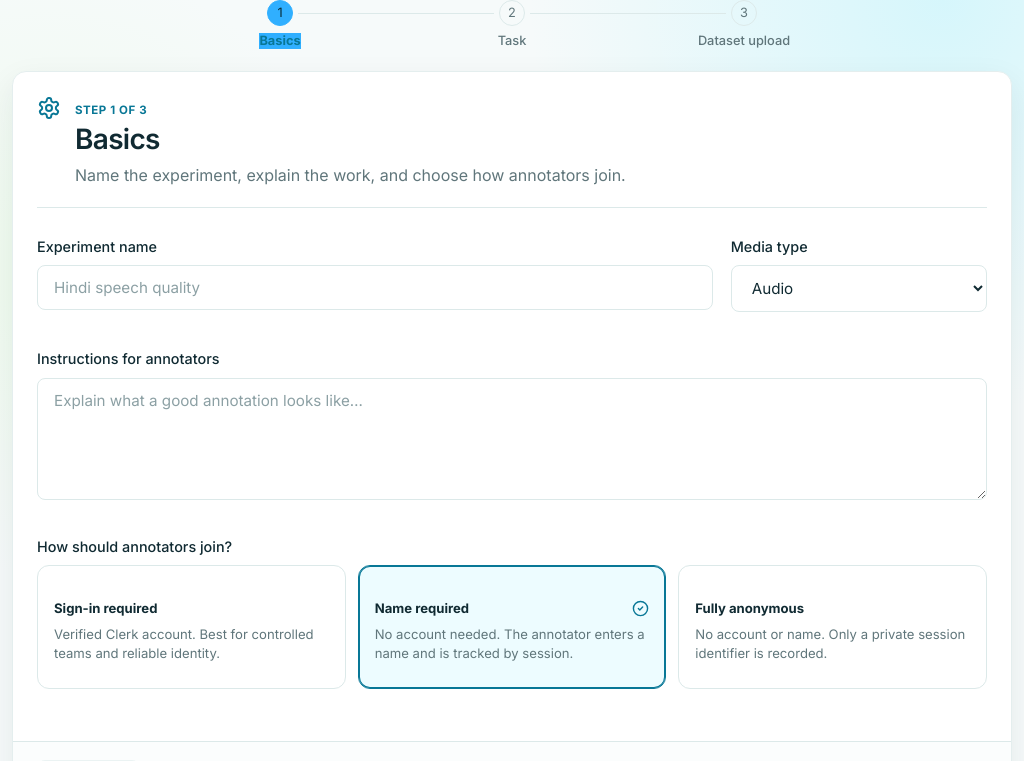
Scenario: CreateExperiment - 3-Step Wizard Flow › explains what is required before the designer can continue
In the field labelled "Experiment name": (375, 288) [37,265,713,310], type "Speech review"
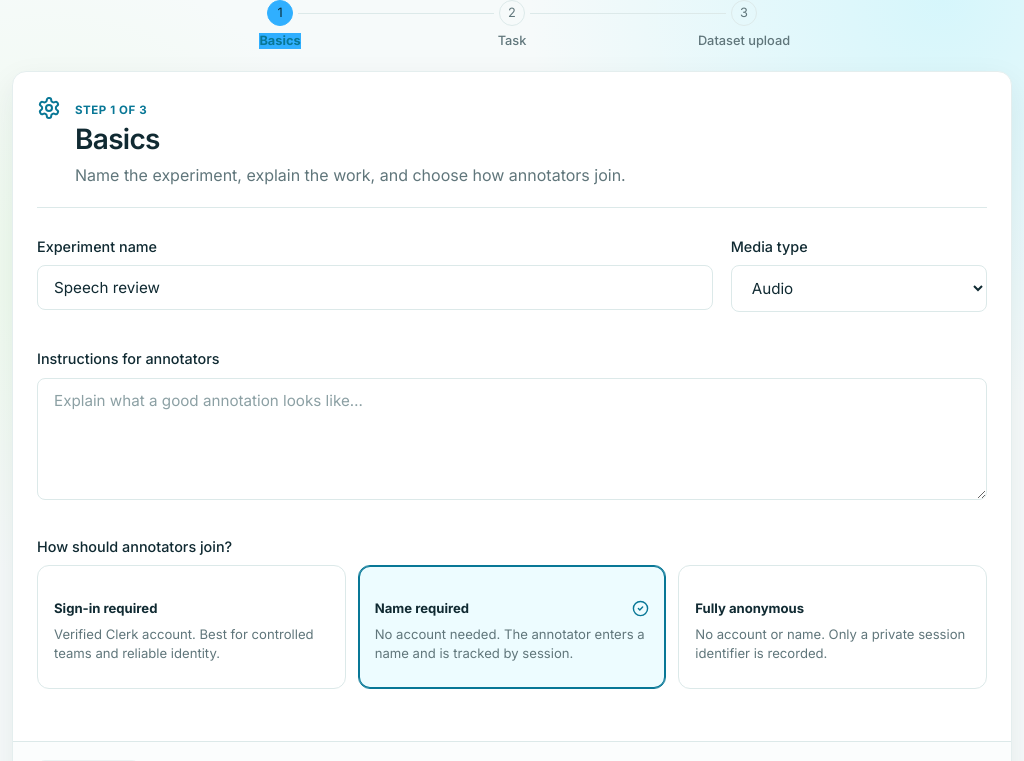
In the text box labelled "Instructions for annotators": (512, 439) [37,378,987,500], type "Choose the clearest sample."
(page scrolled)
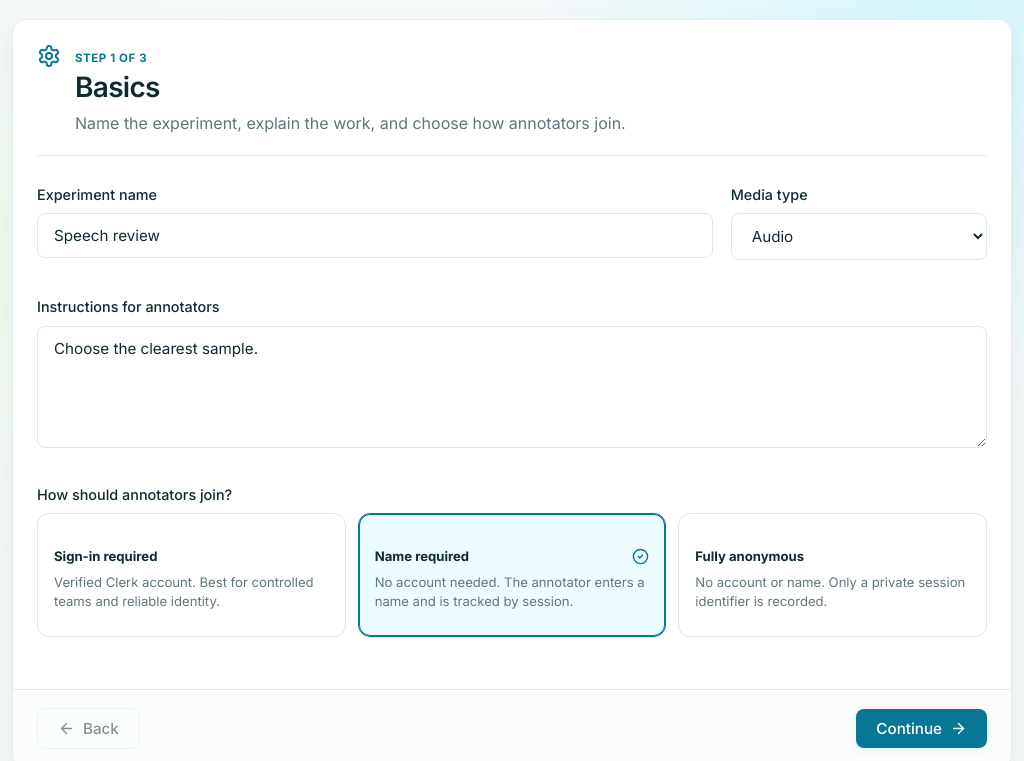
Expected: the text "Add an experiment name and annotator instructions to continue." is not shown
Expected: the button "Continue" is enabled, [856,709,987,748]
